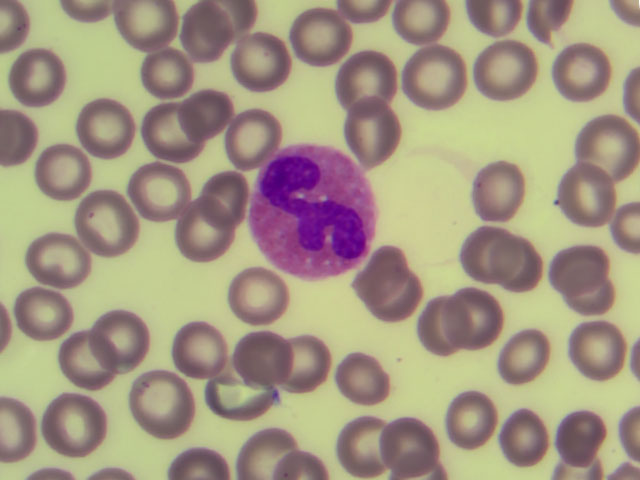RBC: (242, 412, 303, 480), (338, 412, 399, 480), (377, 412, 438, 480), (11, 45, 72, 112), (31, 137, 92, 204), (80, 94, 141, 161), (138, 38, 199, 105), (178, 76, 239, 143), (131, 108, 192, 175), (226, 98, 287, 165), (133, 155, 194, 222), (170, 198, 231, 265), (201, 153, 262, 220), (71, 190, 132, 257), (41, 222, 102, 289), (19, 276, 80, 343), (60, 329, 121, 396), (89, 309, 150, 376), (138, 368, 199, 435), (171, 313, 232, 380), (234, 313, 295, 380), (226, 252, 287, 319), (279, 325, 340, 392), (319, 340, 380, 407), (209, 362, 270, 429), (437, 388, 498, 455), (499, 403, 560, 470), (536, 394, 597, 461), (496, 324, 557, 391), (446, 283, 507, 350), (418, 299, 479, 366), (375, 264, 436, 331), (350, 244, 411, 311), (461, 223, 522, 290), (490, 224, 551, 291), (545, 229, 606, 296), (561, 266, 622, 333), (564, 324, 625, 391), (545, 171, 606, 238), (569, 110, 630, 177), (473, 155, 534, 222), (475, 43, 536, 110), (560, 40, 621, 107), (406, 47, 467, 114), (342, 49, 403, 116), (347, 108, 408, 175), (291, 13, 352, 80), (233, 28, 294, 95), (182, 5, 243, 72), (50, 388, 111, 455), (123, 1, 184, 67)
WBC: (251, 138, 380, 280)
